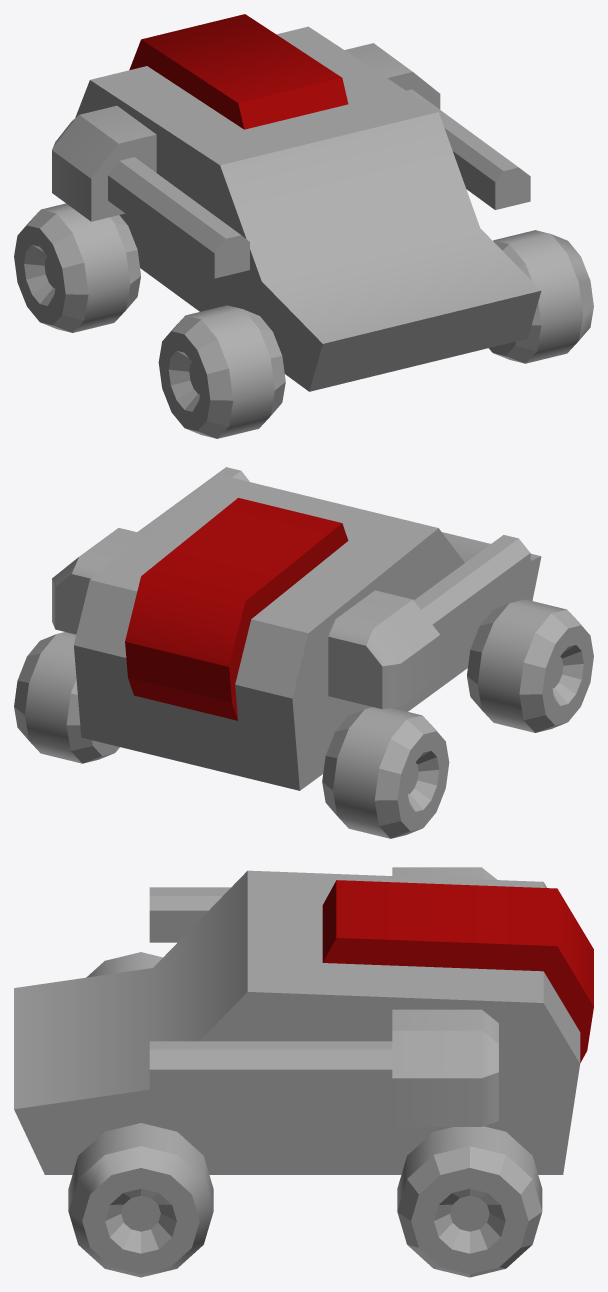
Rendered from Scout.fbx.
The picture shows the model from 3 angles, top to bottom: view 1: azimuth 30°, elevation 25°; view 2: azimuth 150°, elevation 25°; view 3: azimuth 270°, elevation 25°; orthographic projection. The views are drawn at different scales.
Parts seen in each view (by area): view 1: body, rts_wheel00, rts_wheel01, rts_wheel03; view 2: body, rts_wheel00, rts_wheel01, rts_wheel02; view 3: body, rts_wheel03, rts_wheel02, rts_wheel00.
Boxes of the visible parts, x1,y1,x2,y2 form: body: [52, 14, 541, 391]; rts_wheel00: [158, 305, 285, 438]; rts_wheel01: [14, 203, 140, 332]; rts_wheel03: [489, 230, 593, 363]; body: [52, 467, 541, 790]; rts_wheel00: [467, 599, 593, 732]; rts_wheel01: [322, 707, 449, 838]; rts_wheel02: [14, 632, 119, 763]; body: [14, 867, 593, 1174]; rts_wheel03: [68, 1123, 213, 1277]; rts_wheel02: [397, 1126, 542, 1277]; rts_wheel00: [86, 952, 162, 977].
Size of the model in its own units: 124 by 74.09 by 143.
